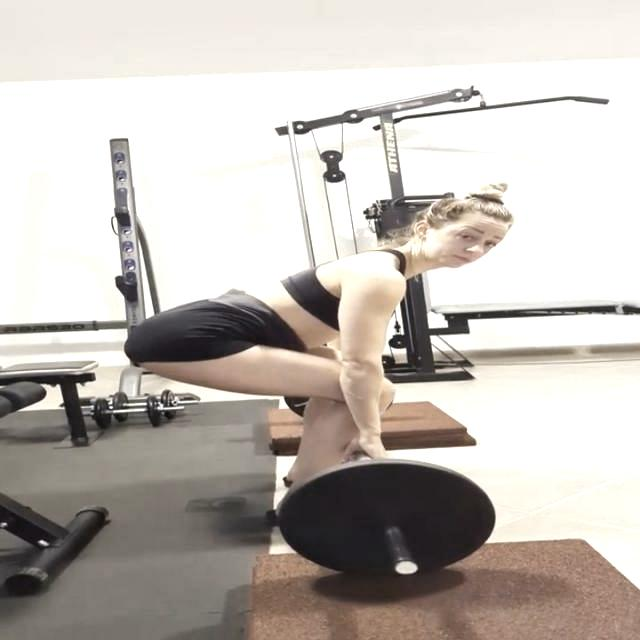barbell: (272, 452, 504, 590)
